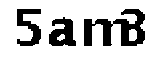3: (128, 7, 156, 47)
5: (11, 6, 45, 52)
a: (48, 16, 79, 50)
m: (82, 17, 129, 55)
